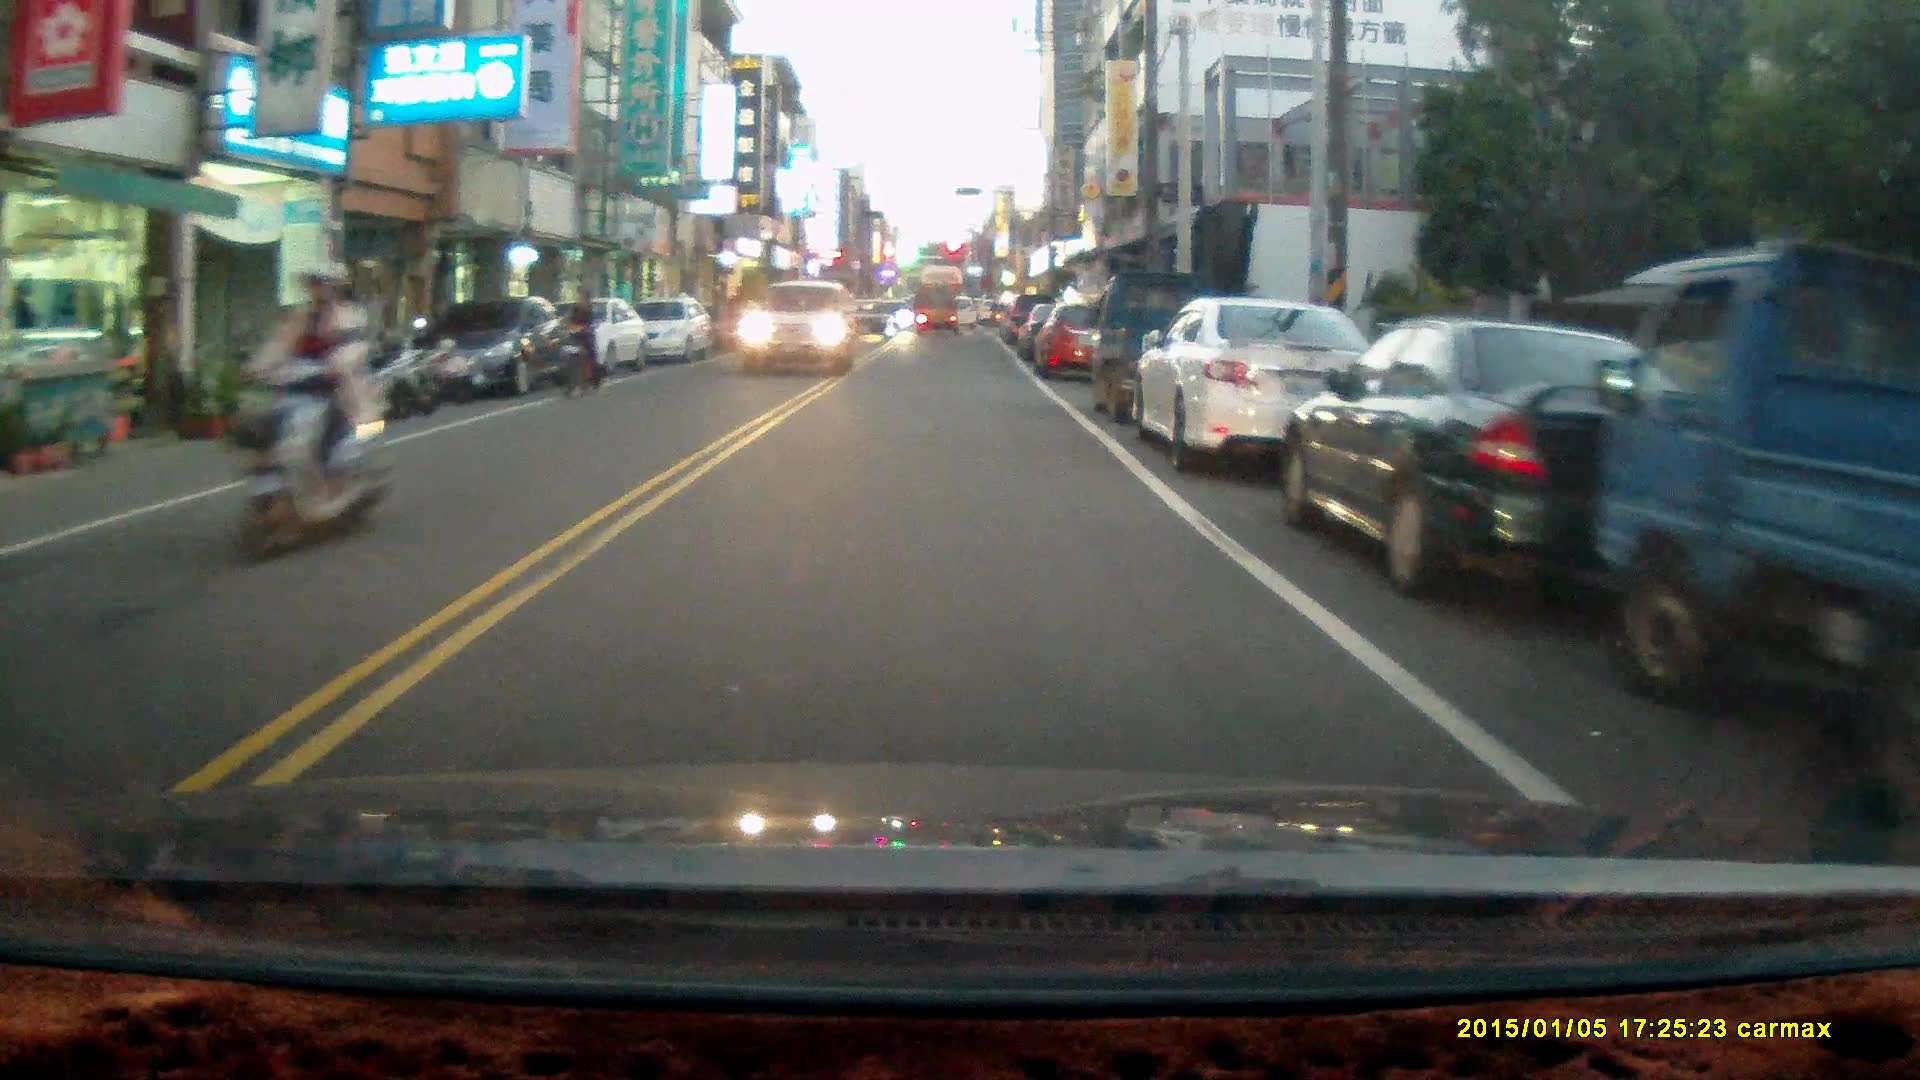rider: (234, 256, 397, 563), (555, 288, 600, 399)
vehicle: (1589, 238, 1920, 779), (1276, 315, 1747, 602), (1131, 294, 1389, 473), (1089, 263, 1257, 436), (425, 298, 576, 400), (737, 279, 858, 373), (1030, 303, 1130, 382), (620, 297, 715, 365), (839, 297, 900, 345), (910, 283, 960, 338)
